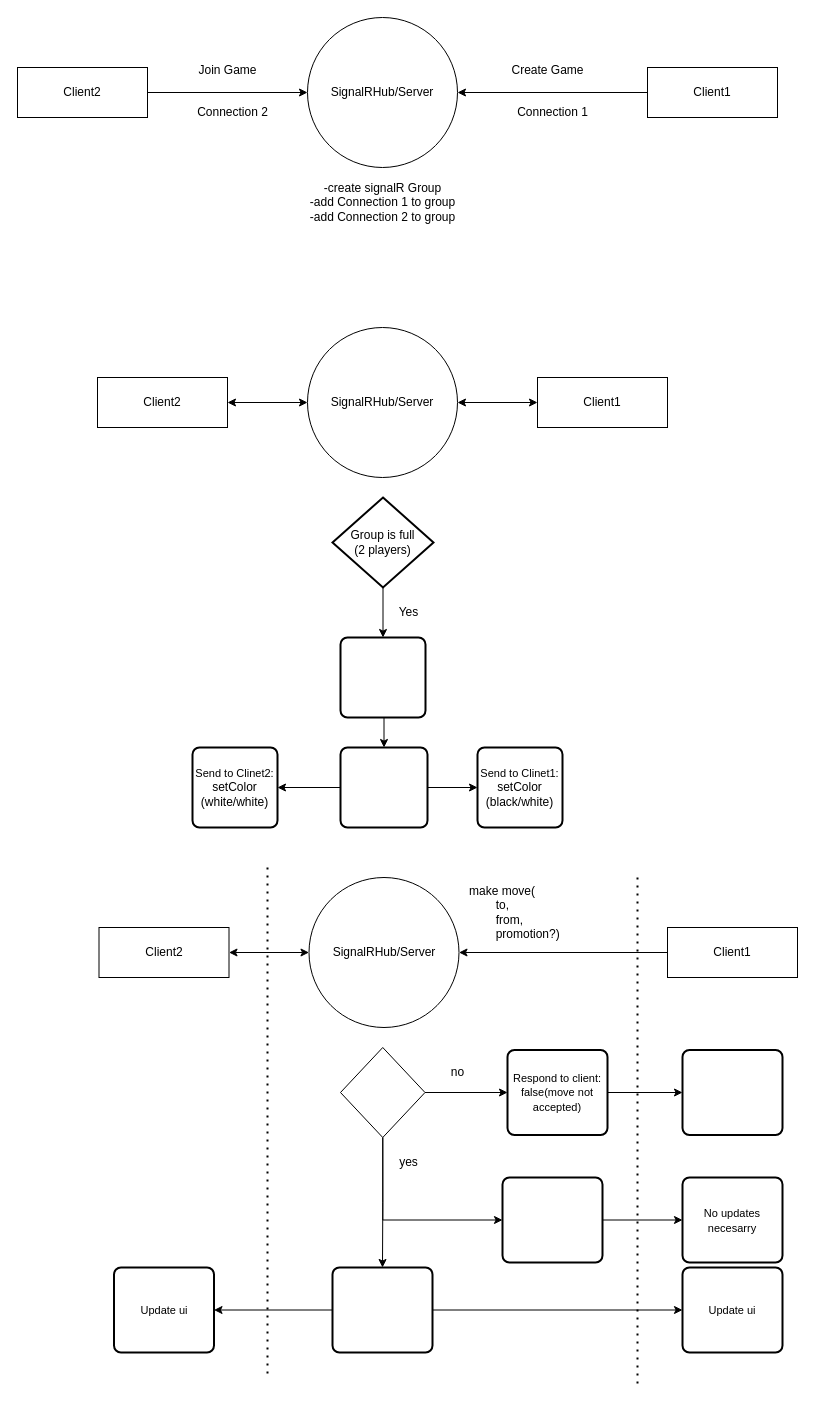
This 815x1407 diagram has some shape labels left out. Each missing label, with the box of its shape:
Create and initialize a game instance linked to the group: (339, 636, 426, 718)
is move valid: (340, 1046, 425, 1138)
Respond to client: true(move accepted): (501, 1176, 603, 1263)
Revert move on the ui. Wait for input: (681, 1048, 783, 1136)
Send to Group: -game started(): (339, 746, 428, 828)
Send to group: updateBoard(tza board): (331, 1266, 433, 1353)
